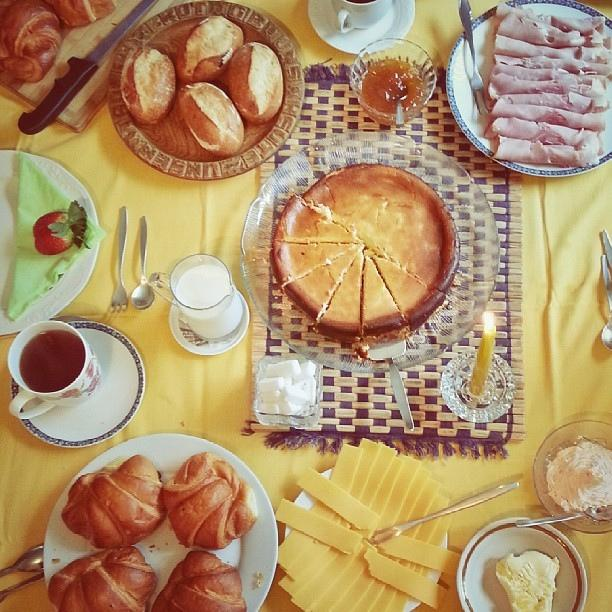strawberry: (33, 199, 91, 255)
